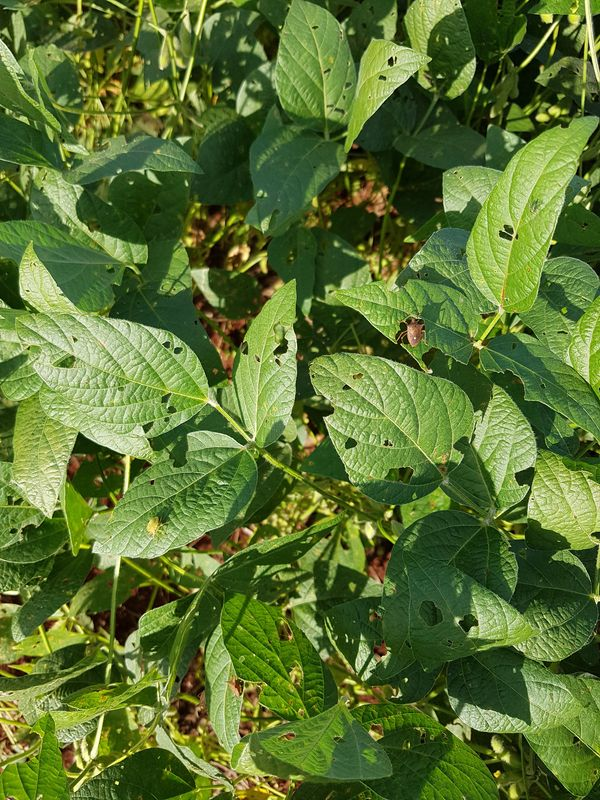Euschistus_heros_adulto: (395, 312, 434, 354)
Euschistus_heros_ninfa: (138, 511, 173, 545)
